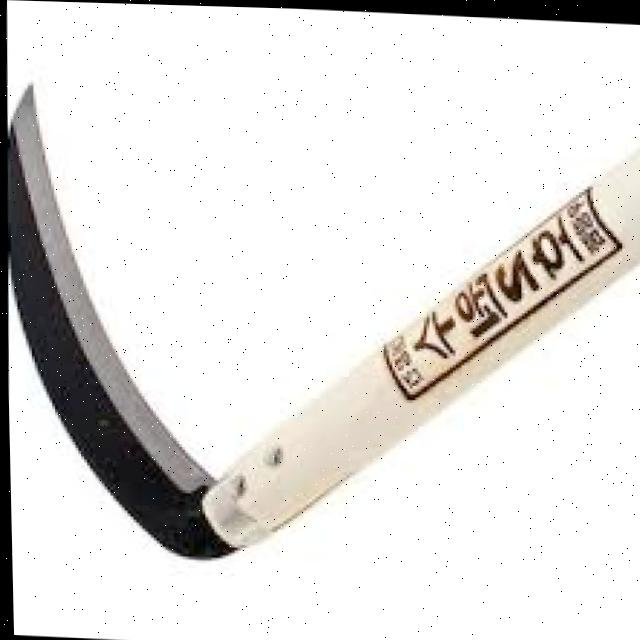sickle: (1, 69, 640, 579)
